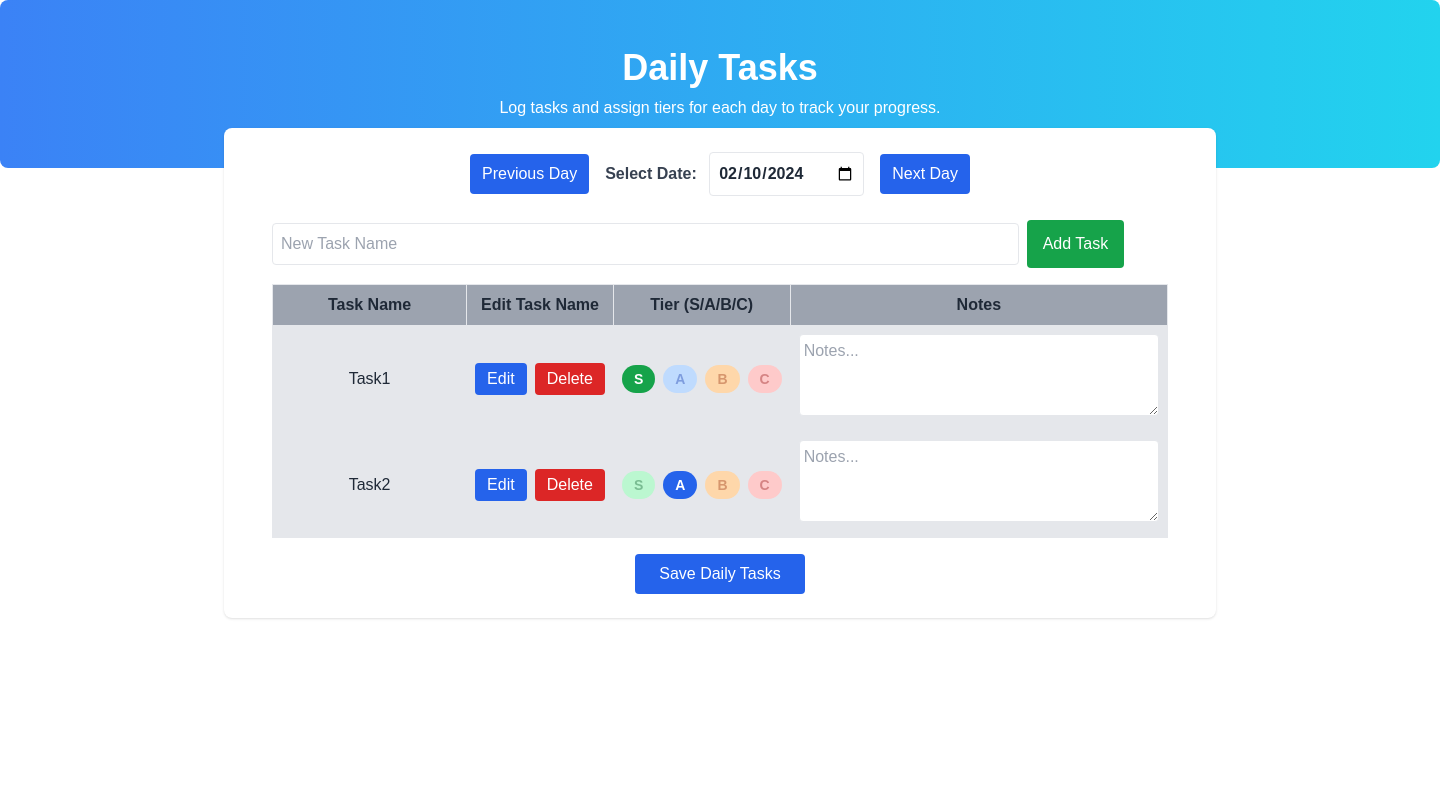
Test: DailyPage (src/app/daily/page.tsx) › deletes a task after user confirmation
The image size is (1440, 810).
Click the button "Delete" in the row of "Task1". click: point(570, 378)
box: [535, 362, 605, 394]
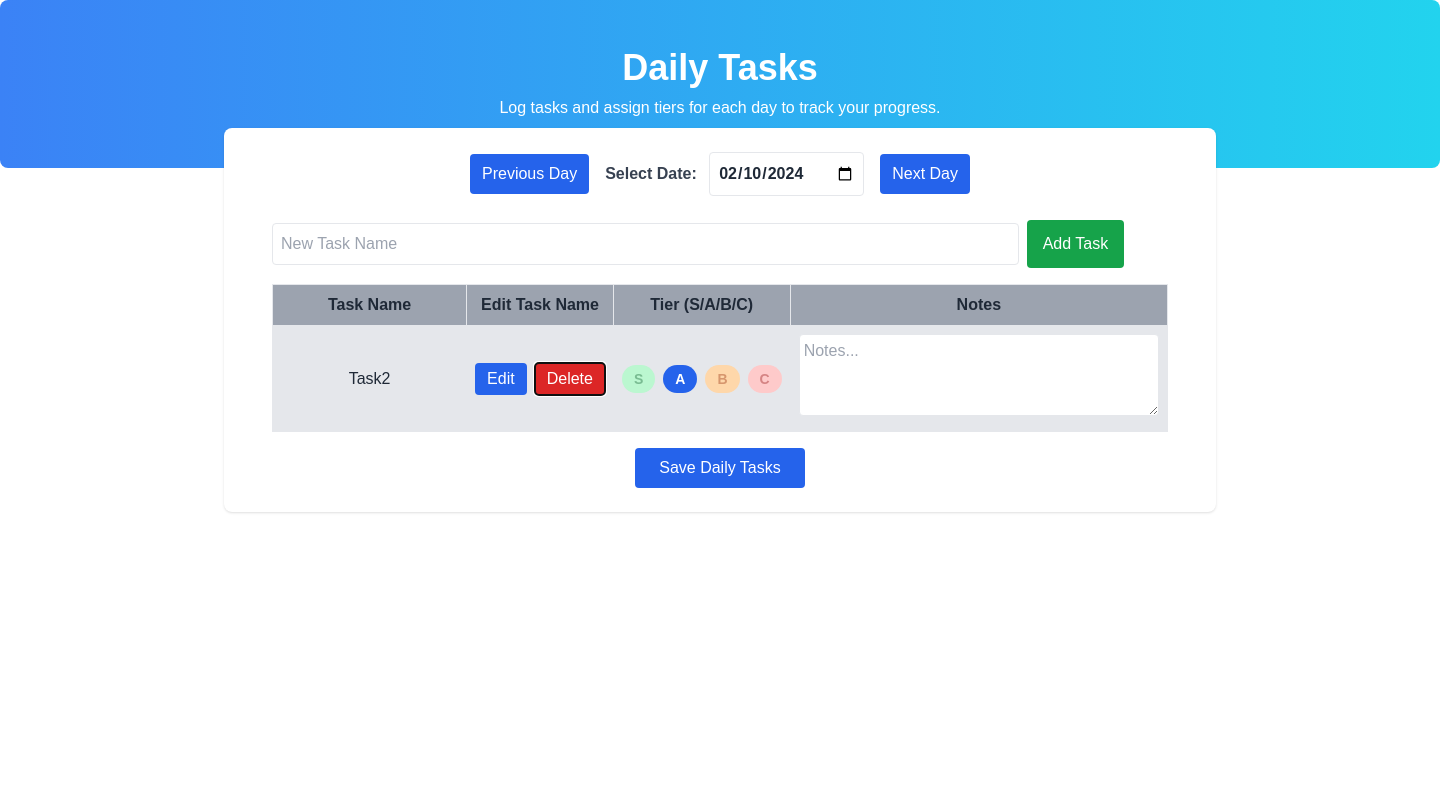
Result: the text "Task1" is gone
Result: the text "Task2" is shown at [349, 370, 390, 386]
